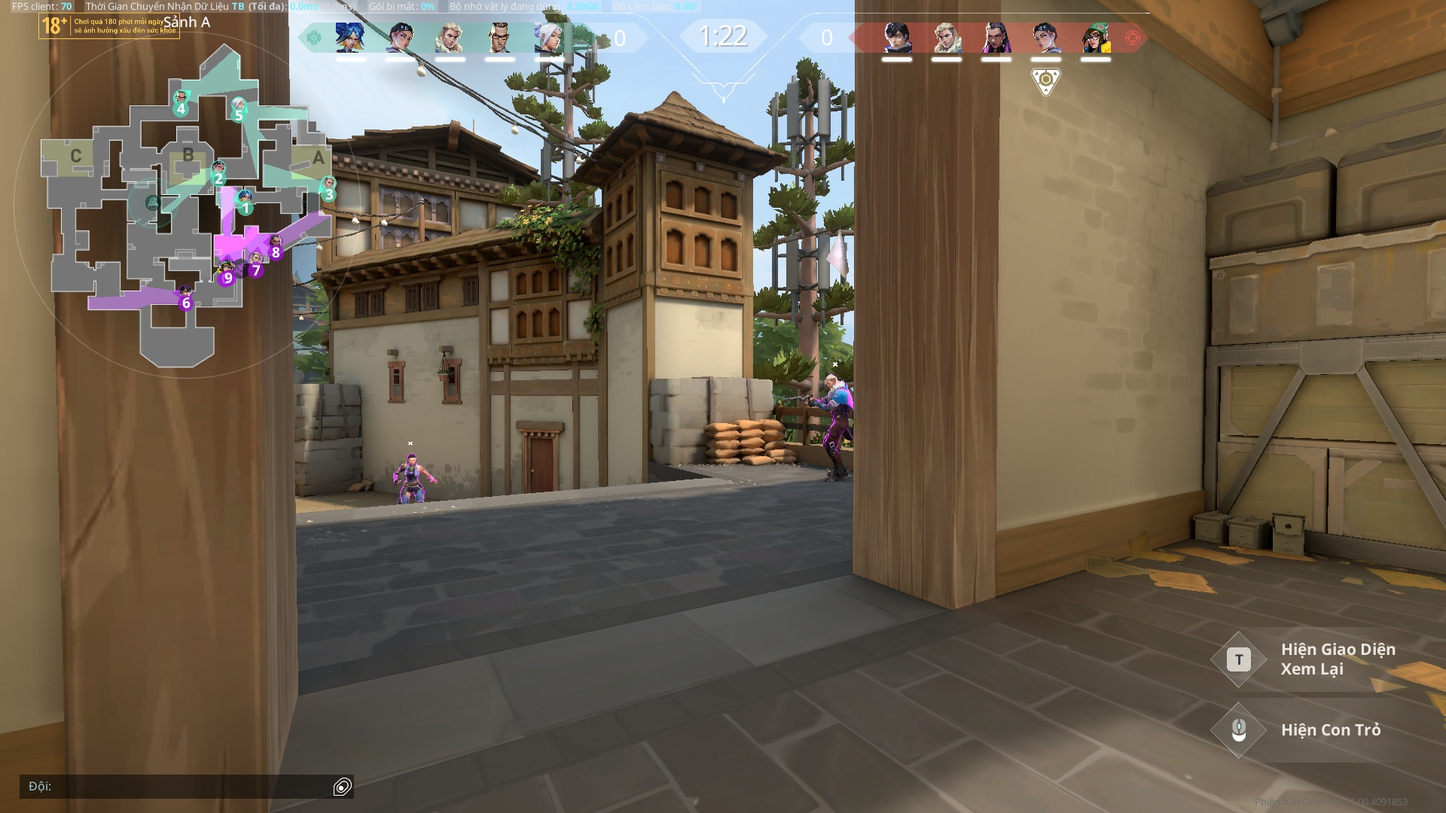body: (826, 388, 850, 424), (398, 463, 424, 483)
head: (823, 376, 839, 388), (406, 455, 419, 465)
